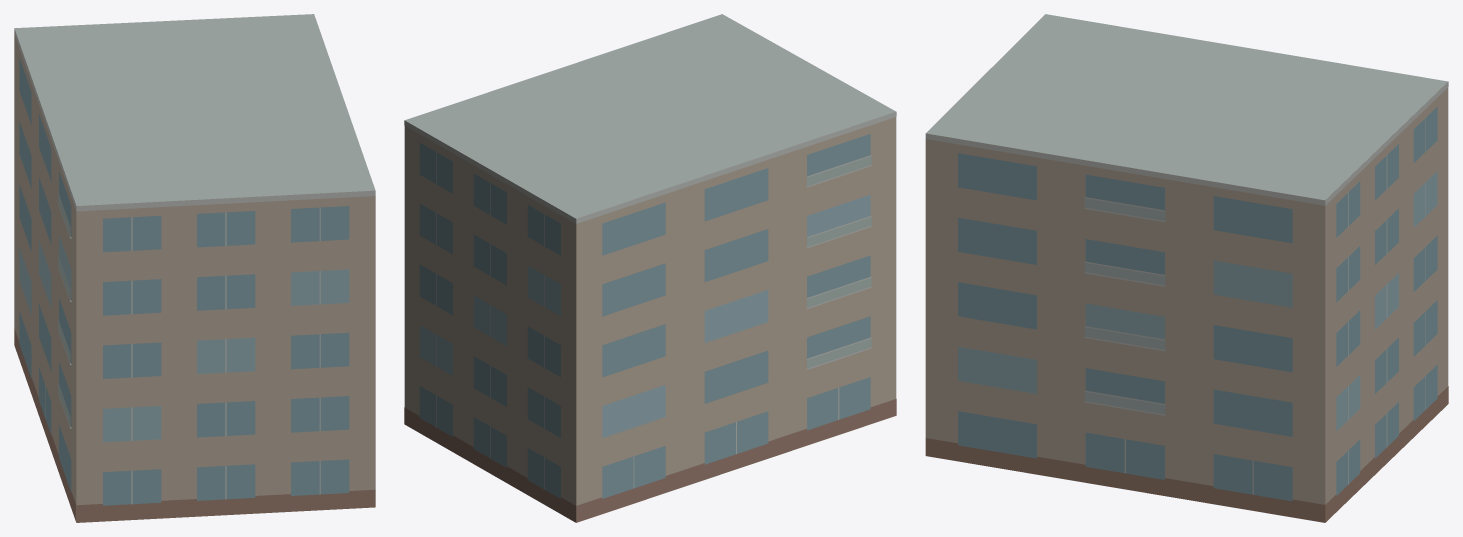
File: survey-upis-32778765.glb
3 views of the same model, side by side, from view 1: azimuth 30°, elevation 25°; view 2: azimuth 150°, elevation 25°; view 3: azimuth 270°, elevation 25° (orthographic). The views are drawn at different scales.
Visible parts, largest first — view 1: survey-upis-32778765.tmp; view 2: survey-upis-32778765.tmp; view 3: survey-upis-32778765.tmp.
Boxes of the visible parts, <box> form: survey-upis-32778765.tmp: <box>14,14,375,522</box>; survey-upis-32778765.tmp: <box>404,14,896,522</box>; survey-upis-32778765.tmp: <box>925,14,1448,522</box>.
Size of the model in its own units: 17.73 by 14.3 by 21.02.
